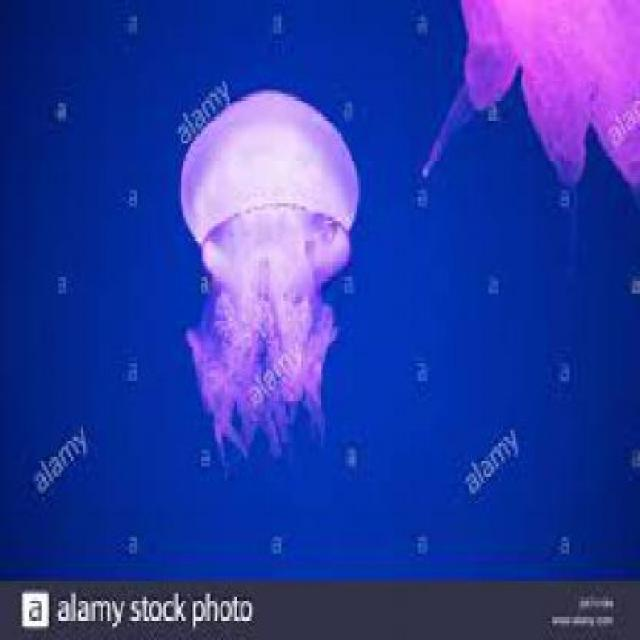Jellyfish: (173, 84, 362, 467)
